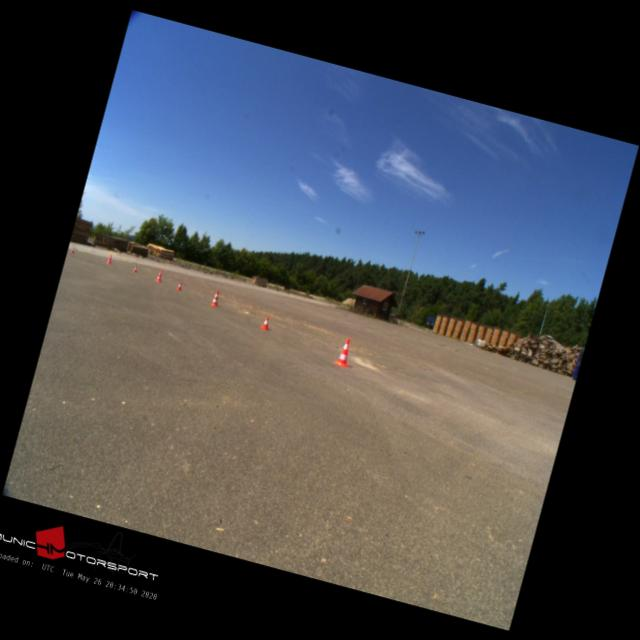large_orange_cone: (333, 336, 354, 366), (210, 289, 222, 306), (154, 268, 164, 282), (106, 253, 113, 264)
orange_cone: (260, 314, 270, 330), (176, 282, 183, 290), (132, 266, 138, 272), (70, 247, 74, 253)
